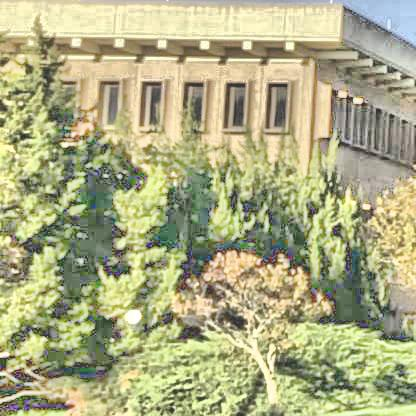golfball: (121, 306, 140, 321)
